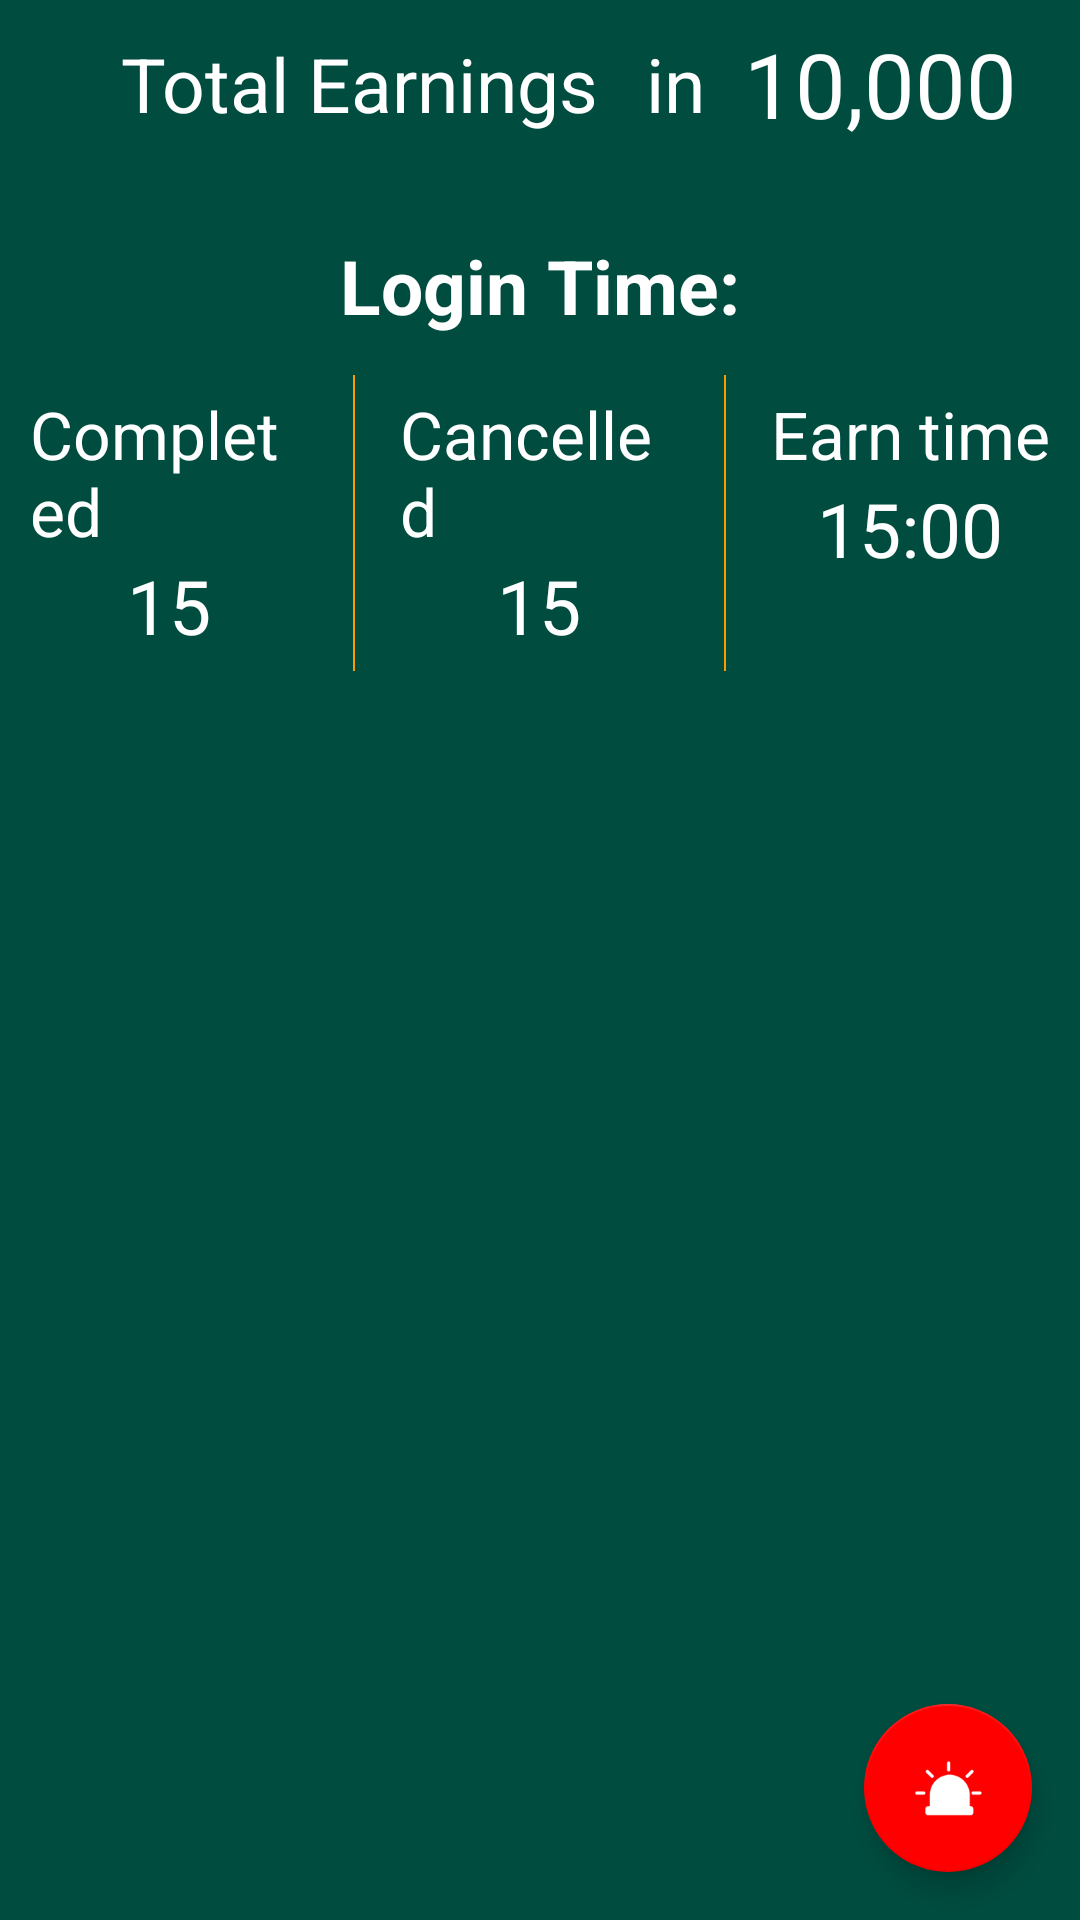

Where icons sit on this 1080px×1920px app screen, as (x1,y1,x2,y2):
emergency: (864,1704,1032,1872)
